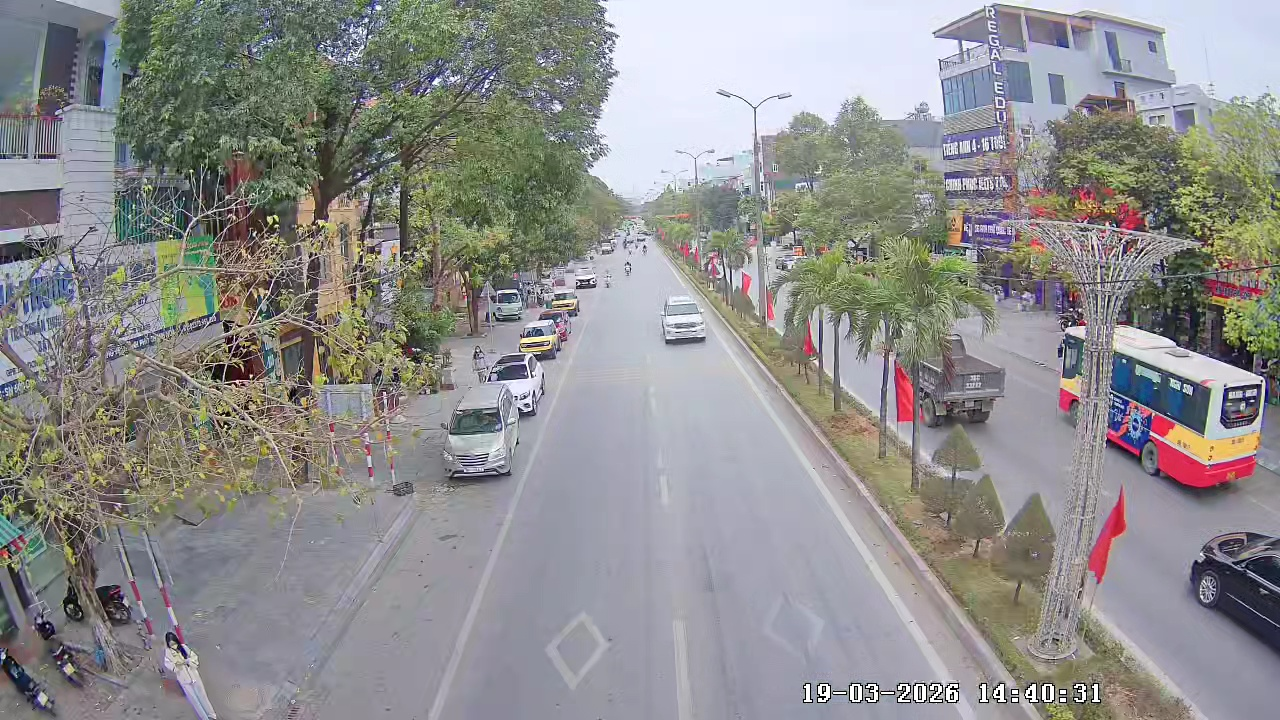bus: (1106, 327, 1266, 490)
car: (1187, 528, 1279, 670), (440, 385, 521, 479), (480, 352, 546, 417), (658, 294, 707, 346), (518, 312, 564, 360), (550, 282, 580, 318), (574, 263, 598, 291)
truck: (915, 322, 1013, 426)
